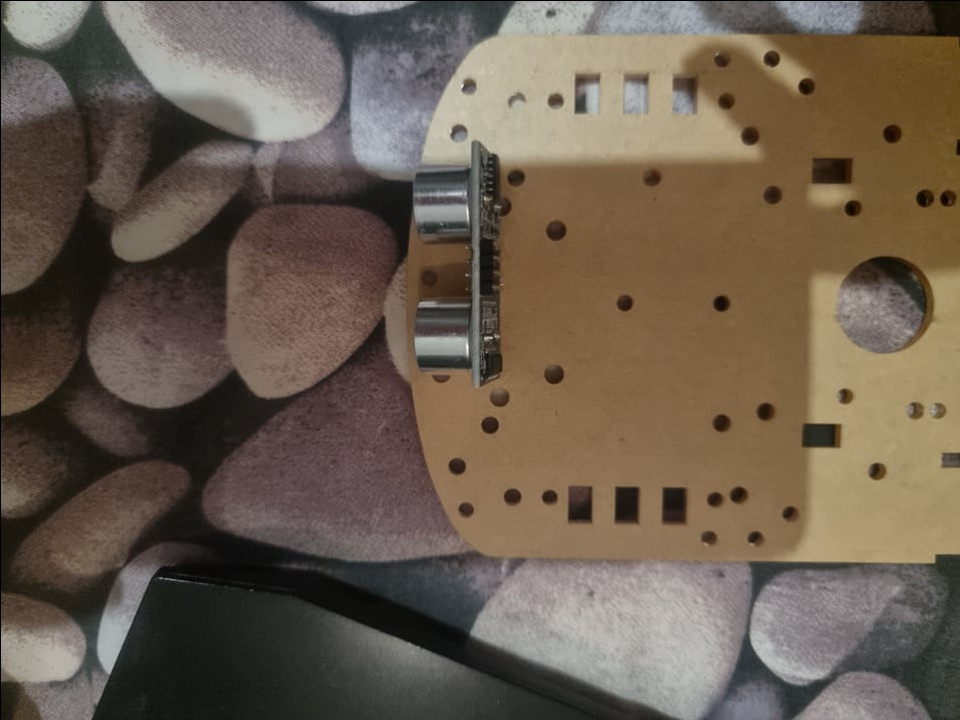SENSOR: (409, 137, 506, 388)
